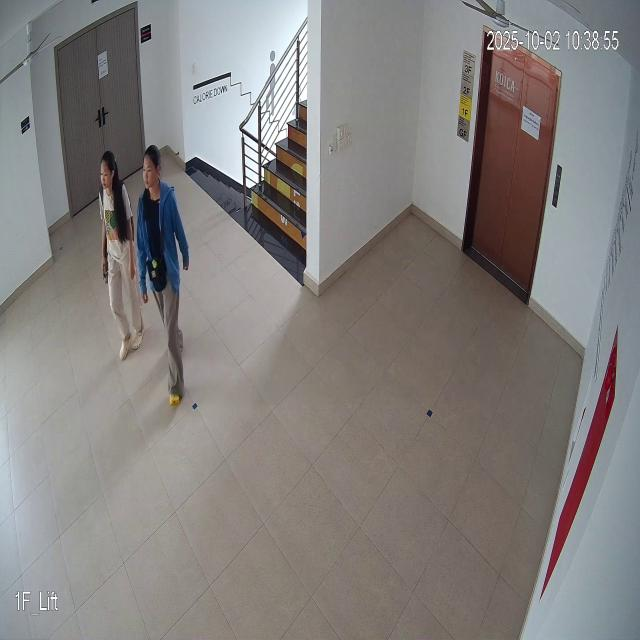face: (141, 144, 167, 193), (99, 147, 118, 192)
